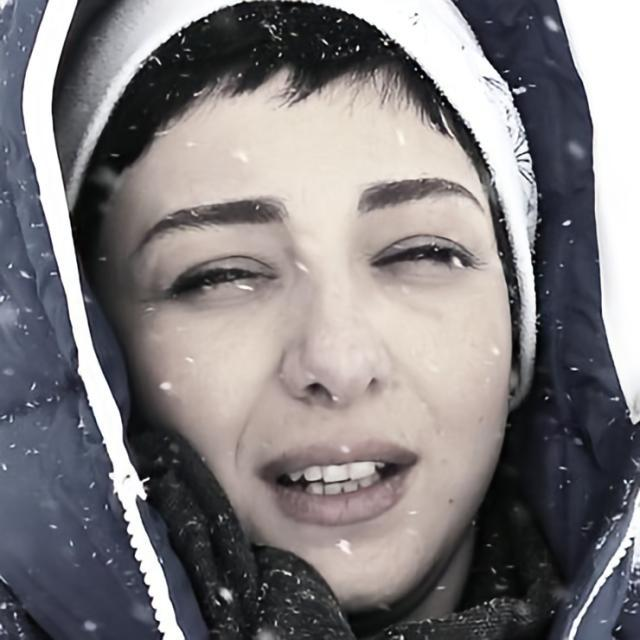disgust: (93, 48, 513, 622)
